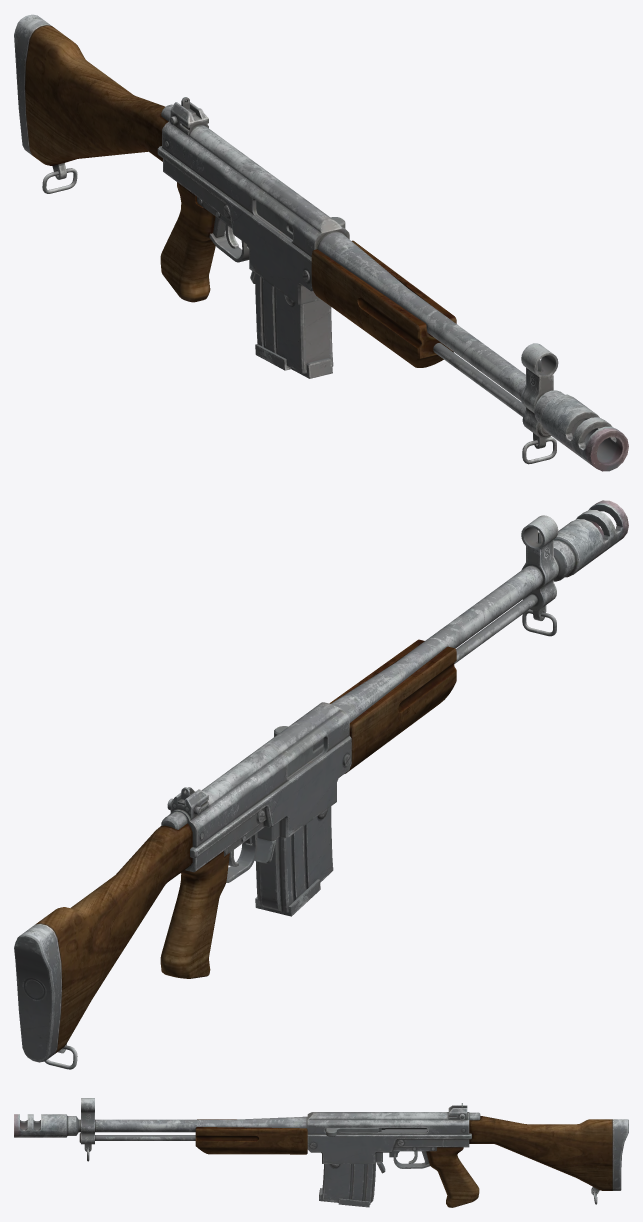
3 renders of one model, top to bottom at view 1: azimuth 30°, elevation 25°; view 2: azimuth 150°, elevation 25°; view 3: azimuth 270°, elevation 25°, orthographic. The views are drawn at different scales.
Visible parts, largest first — view 1: base, mag; view 2: base, mag; view 3: base, mag, bolt.
Part boxes in pixels (box(x1,y1,x2,y2)): base: box(14, 14, 628, 471); mag: box(255, 273, 333, 378); base: box(14, 500, 628, 1069); mag: box(255, 806, 333, 916); base: box(14, 1098, 628, 1207); mag: box(319, 1162, 375, 1207); bolt: box(325, 1128, 385, 1136).
Bounding box in the file's own units: 8.3 × 29.04 × 151.
1 material, 1 textured.
